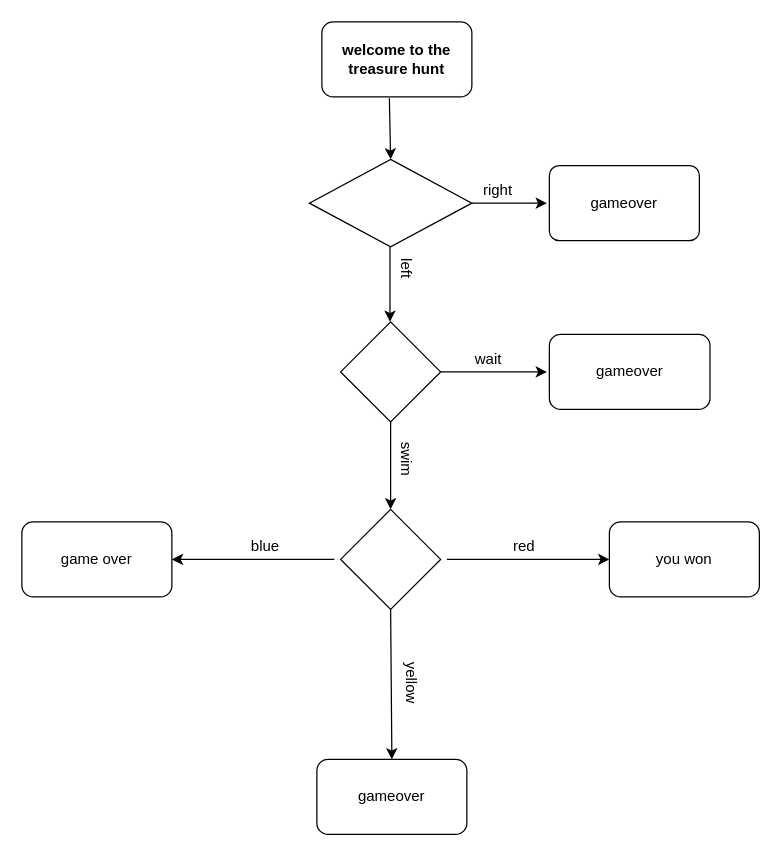
Image size: 781x856. Some labels were removed from this diagram. Here are the shapes that lost their labels. From the top down, the centre of each, then its label:
At point (390, 202): "left or right".
At point (390, 371): "swim or wait".
At point (390, 558): "what door".
